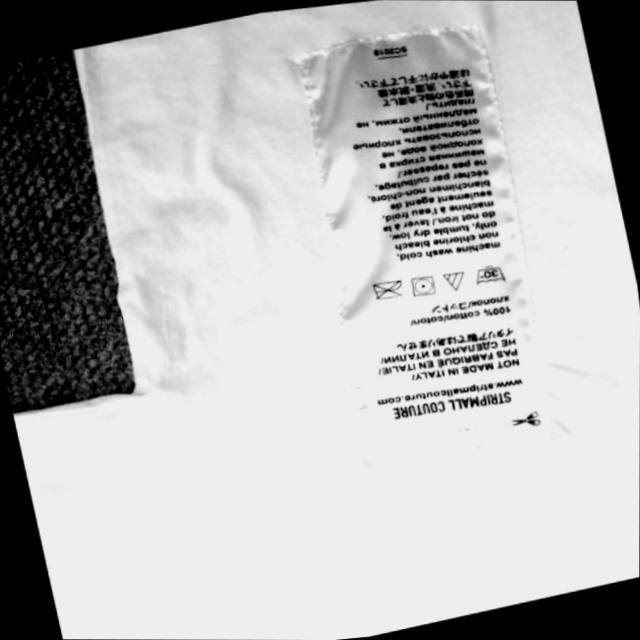30C: (471, 260, 510, 288)
DN_iron: (366, 275, 406, 308)
non_chlorine_bleach: (440, 267, 470, 294)
tumble_dry_low: (407, 271, 443, 299)
